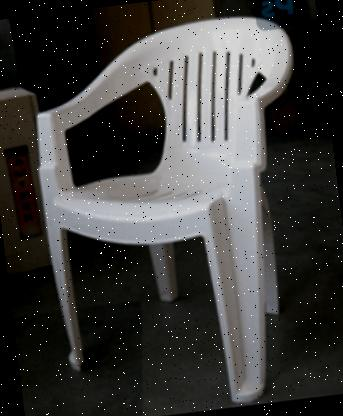chair: (9, 1, 338, 416)
